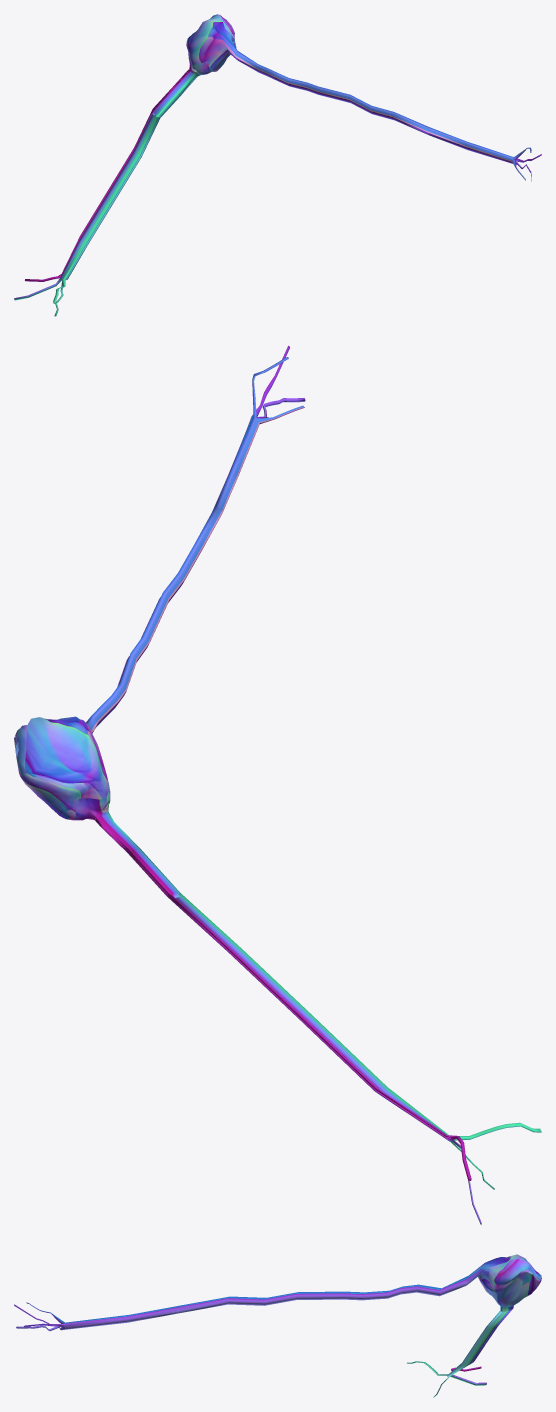
Rendered from lastneuron15.fbx.
3 renders of one model, top to bottom at view 1: azimuth 30°, elevation 25°; view 2: azimuth 150°, elevation 25°; view 3: azimuth 270°, elevation 25°, orthographic. The views are drawn at different scales.
Parts seen in each view (by area): view 1: duplicated done2 ex; view 2: duplicated done2 ex; view 3: duplicated done2 ex.
Part boxes in pixels (x1,y1,x2,y2): duplicated done2 ex: (14, 14, 541, 316); duplicated done2 ex: (14, 345, 541, 1224); duplicated done2 ex: (14, 1254, 541, 1397).
Size of the model in its own units: 57228 by 39403 by 74467.
